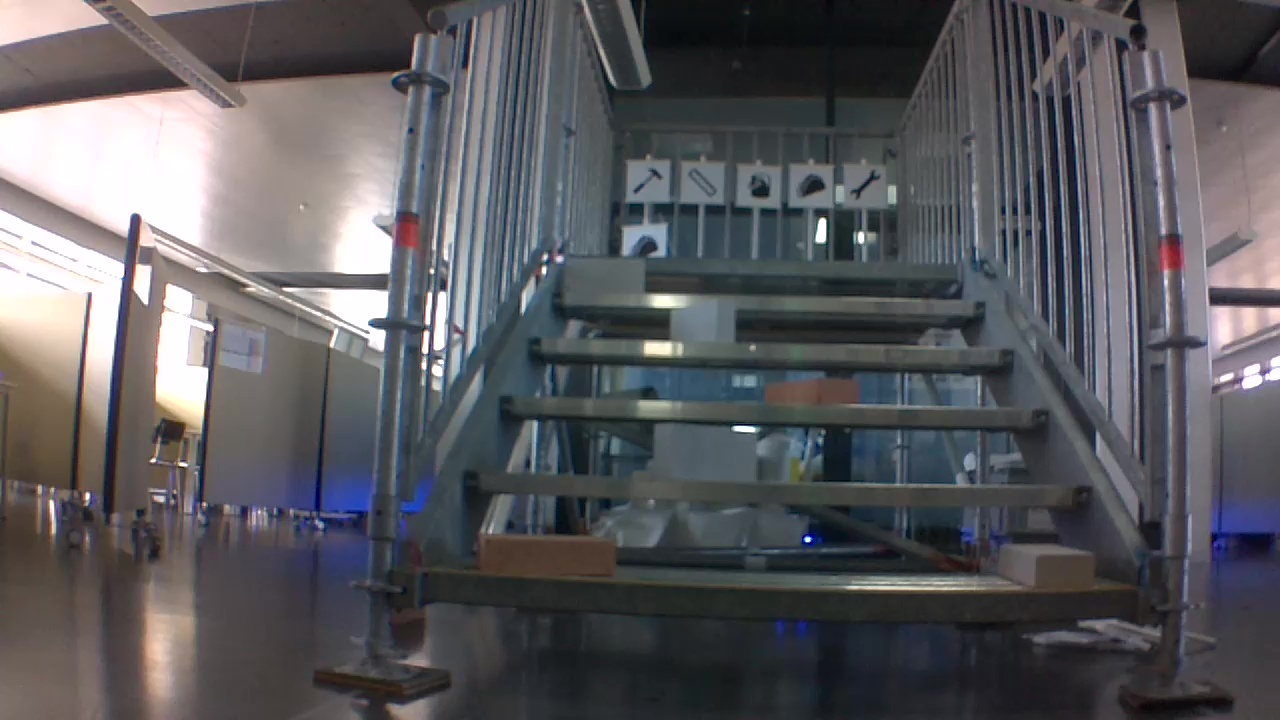brick: (656, 422, 754, 482), (481, 532, 614, 576), (998, 544, 1094, 584), (562, 259, 642, 294), (764, 379, 859, 404), (670, 306, 732, 342)
bucket: (743, 167, 774, 201)
edge: (421, 569, 1138, 618), (464, 471, 1091, 509), (498, 395, 1050, 429), (528, 336, 1014, 369), (552, 294, 987, 317), (565, 261, 963, 277)
hammer: (631, 165, 664, 198)
ruler: (685, 167, 720, 200)
stairs: (313, 4, 1237, 712)
steps: (416, 249, 1151, 633)
taco: (793, 172, 827, 200), (630, 234, 662, 256)
wrench: (845, 167, 882, 202)
